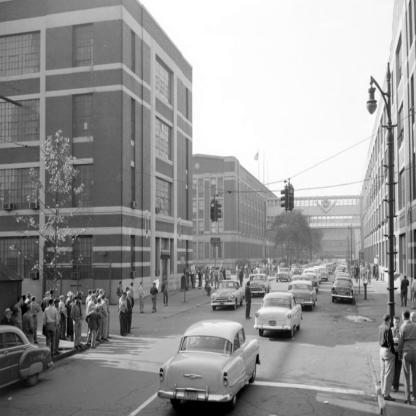Car: (0, 260, 356, 415)
